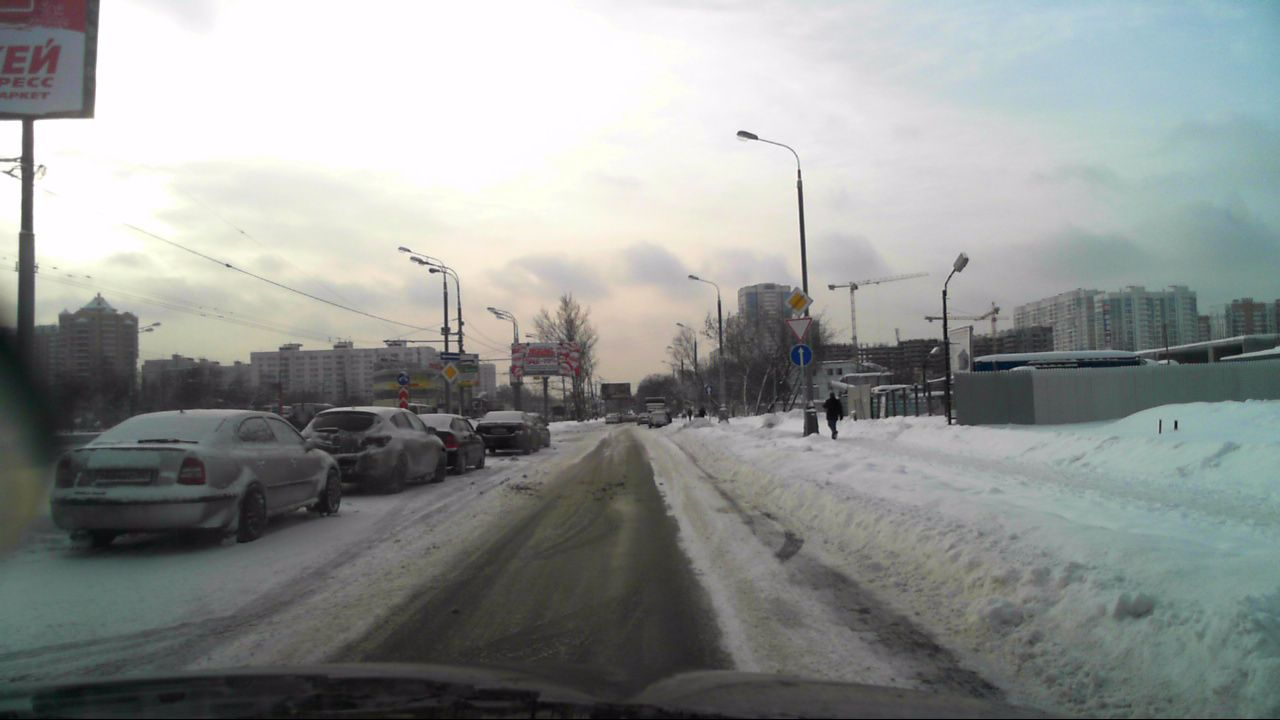main road: (783, 285, 813, 316)
